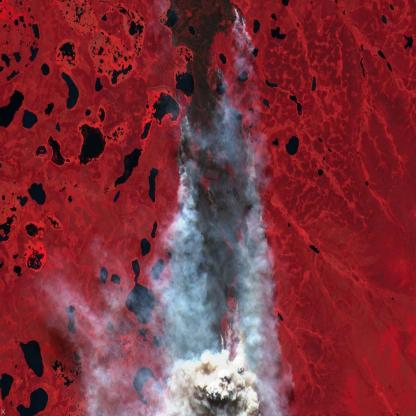fire: (157, 0, 269, 416)
